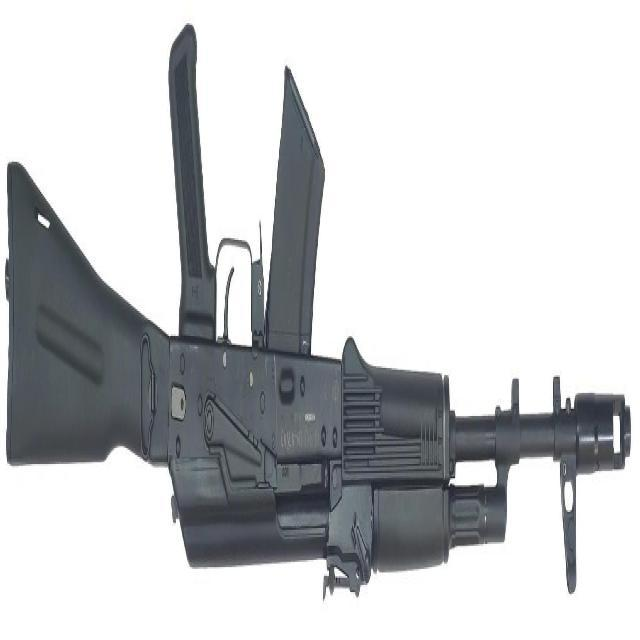weapon: (3, 23, 633, 605)
